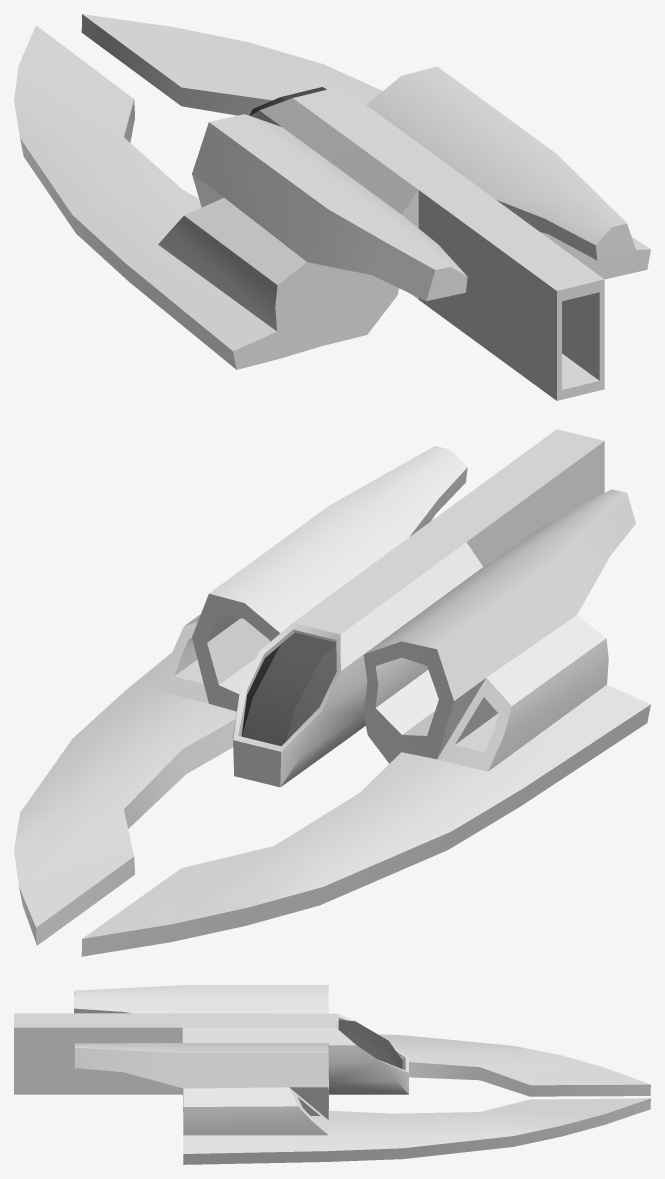
File: orlan10.glb
3 renders of one model, top to bottom at view 1: azimuth 30°, elevation 25°; view 2: azimuth 150°, elevation 25°; view 3: azimuth 270°, elevation 25°, orthographic. The views are drawn at different scales.
Visible parts, largest first — view 1: Body; view 2: Body; view 3: Body.
Boxes of the visible parts, x1=… form: Body: x1=14, y1=14, x2=650, y2=400; Body: x1=14, y1=429, x2=650, y2=956; Body: x1=14, y1=985, x2=650, y2=1164.
Bounding box in the file's own units: 1.62 × 0.5129 × 3.5.
1 material, 1 textured.
